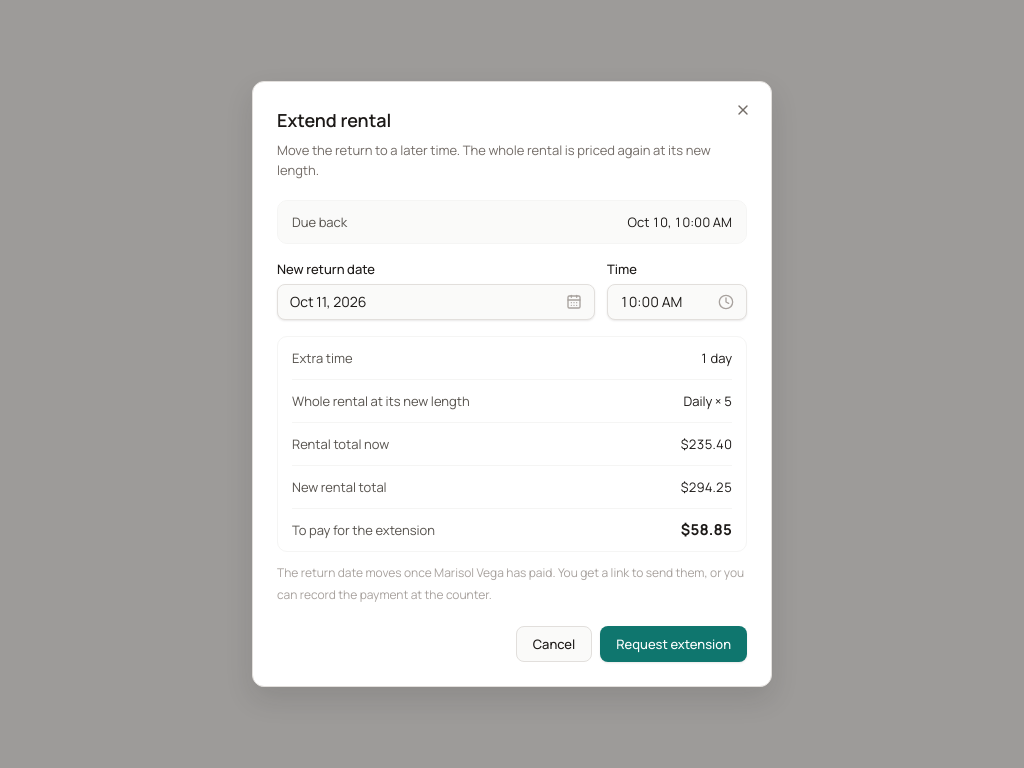
Test: ExtendRentalDialog › shows a price that moved since the quote instead of closing
The image size is (1024, 768).
Check: the text "$58.85" is shown, box [681, 519, 732, 541]
Click the button "Request extension".
click(674, 644)  # box [600, 626, 747, 662]
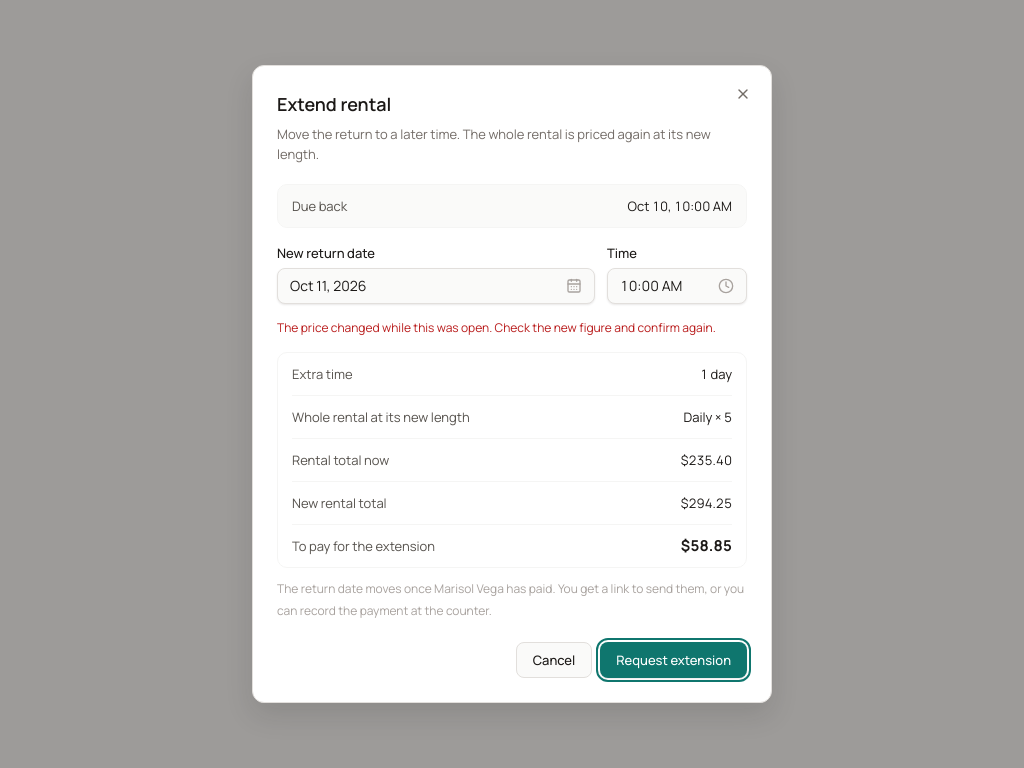
Check: the message shows "price changed while this was open", box [277, 319, 716, 336]
